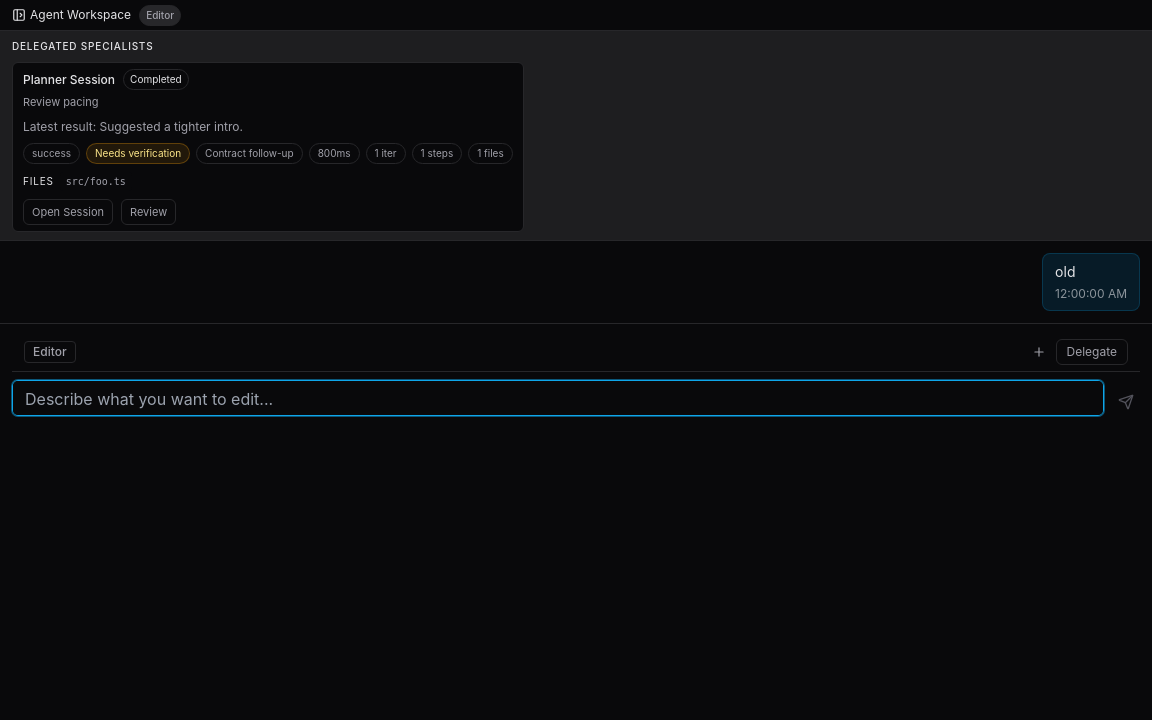
Test: AgenticSidebarContent › opens agent review for a delegated child result from the parent session
The image size is (1152, 720).
Click the button with test id "agent-delegated-child-review-delegation-1" at [149, 212], box left=121, top=198, right=176, bottom=225
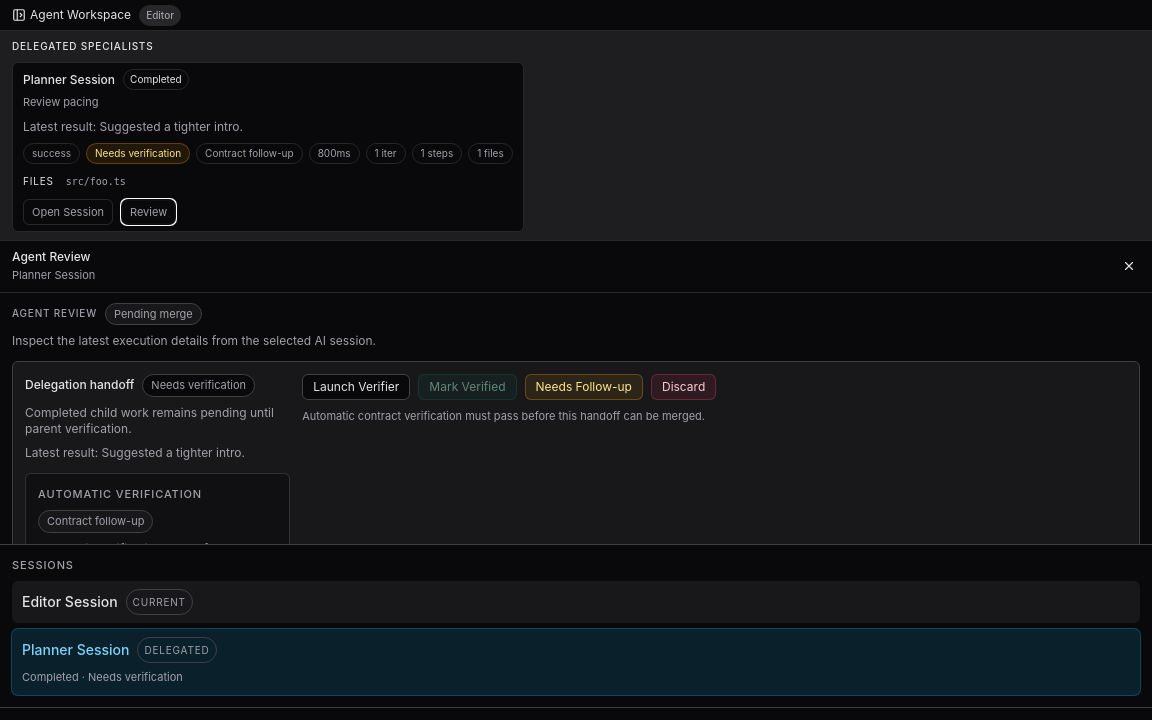
Check: the element with test id "agentic-chat" is gone
Click the button with test id "agent-review-inline-close-btn" at [1129, 266], box left=1118, top=255, right=1140, bottom=277
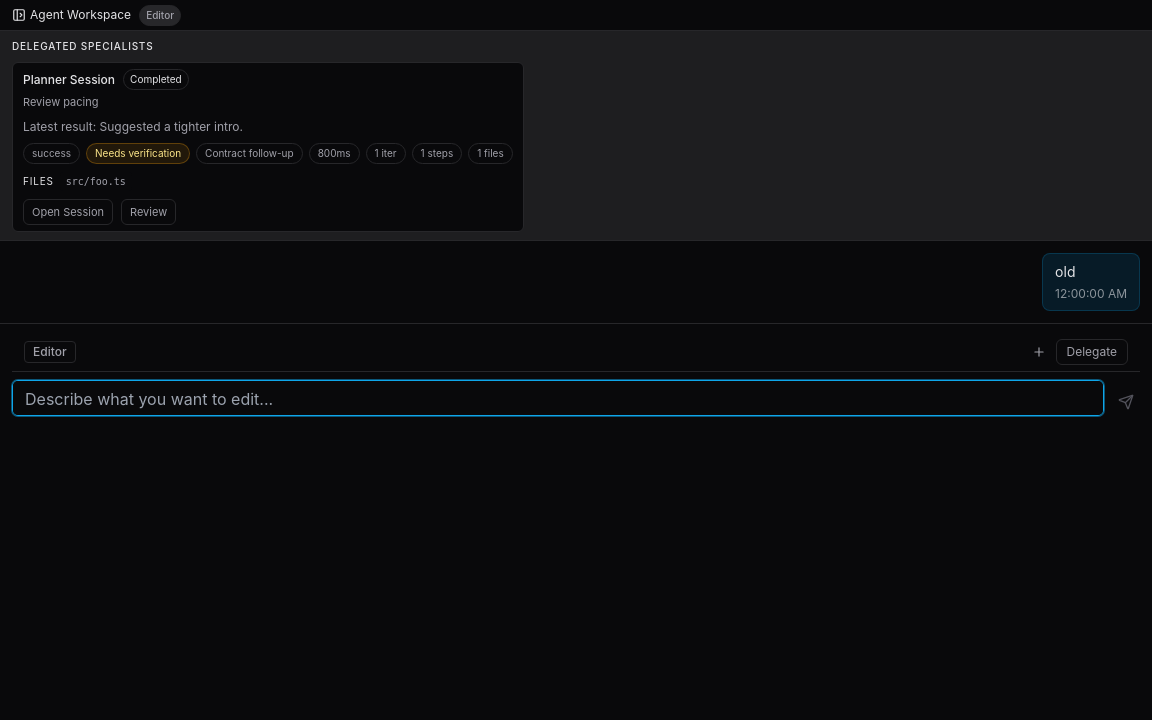
Check: the element with test id "agentic-chat" is shown, box left=0, top=241, right=1151, bottom=424
